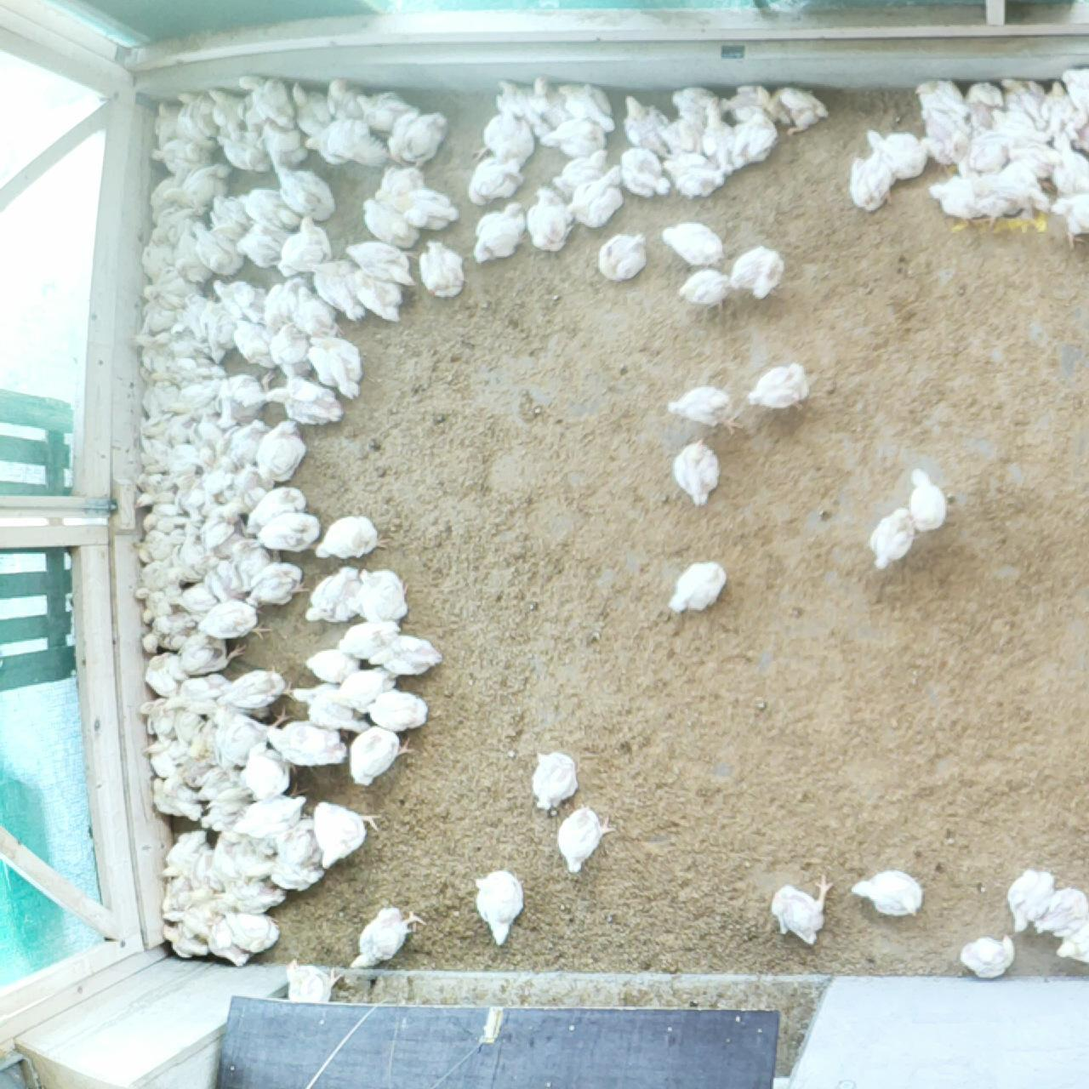chicken: (346, 901, 425, 975), (768, 868, 838, 951), (312, 798, 383, 874), (301, 114, 395, 171), (845, 861, 927, 925), (212, 704, 292, 768), (553, 799, 619, 876), (998, 861, 1063, 939), (470, 864, 529, 948), (261, 716, 349, 772), (665, 379, 747, 439), (347, 722, 418, 791), (284, 678, 371, 734), (231, 780, 309, 841), (301, 117, 389, 170), (270, 158, 339, 225), (309, 510, 395, 563), (666, 553, 733, 621), (272, 212, 336, 281), (863, 124, 936, 184), (302, 334, 365, 402), (261, 377, 344, 428), (900, 463, 956, 538), (763, 81, 834, 140), (657, 215, 730, 272), (215, 661, 295, 713), (564, 164, 631, 226), (865, 504, 923, 575), (980, 159, 1051, 217), (387, 105, 450, 170), (345, 564, 411, 626), (469, 107, 537, 167), (269, 822, 328, 891), (670, 434, 724, 509), (237, 739, 298, 805), (161, 159, 230, 217), (300, 565, 364, 627), (193, 596, 275, 644), (618, 90, 675, 159), (173, 627, 249, 678), (344, 238, 419, 289), (470, 197, 527, 264), (308, 255, 365, 322), (256, 417, 310, 487), (343, 265, 406, 325), (242, 483, 308, 539), (388, 186, 461, 236), (284, 950, 348, 1007), (727, 241, 787, 301), (528, 745, 580, 814), (358, 196, 423, 251), (236, 70, 296, 129), (366, 634, 446, 678), (352, 88, 419, 140), (1028, 885, 1089, 942), (920, 103, 973, 168), (212, 368, 272, 425), (956, 929, 1018, 984), (189, 218, 245, 278), (246, 559, 313, 609), (416, 237, 468, 301), (848, 145, 896, 214), (539, 112, 608, 160), (465, 153, 525, 208), (749, 360, 811, 413), (927, 171, 989, 224), (559, 81, 618, 136), (287, 78, 339, 140), (528, 184, 574, 254), (215, 415, 268, 475), (663, 147, 724, 199), (237, 184, 304, 231), (701, 100, 744, 173), (194, 300, 241, 366), (363, 687, 430, 733), (256, 118, 313, 172), (595, 228, 649, 285), (996, 74, 1049, 132), (618, 144, 671, 202), (216, 124, 275, 176), (676, 265, 735, 317), (173, 90, 220, 155), (209, 276, 269, 326), (731, 107, 778, 170), (160, 672, 232, 713), (234, 220, 293, 270), (552, 148, 611, 198), (222, 464, 272, 523), (268, 318, 315, 380), (489, 75, 544, 126), (371, 161, 427, 211), (228, 317, 278, 373), (1046, 187, 1089, 252), (147, 774, 205, 822), (228, 537, 280, 590), (299, 647, 366, 688), (293, 283, 342, 339), (201, 783, 255, 833), (913, 77, 968, 126), (141, 609, 202, 653), (225, 908, 282, 955), (203, 85, 248, 144), (222, 827, 274, 877), (967, 121, 1015, 175), (264, 276, 306, 337), (322, 74, 371, 126), (161, 827, 209, 880), (990, 104, 1047, 148), (201, 921, 251, 971), (137, 694, 177, 754), (143, 650, 190, 701), (1051, 129, 1089, 192), (147, 137, 211, 174), (225, 879, 287, 917), (1001, 138, 1061, 177), (171, 228, 212, 285), (161, 376, 219, 416), (164, 903, 222, 943), (162, 291, 210, 339), (519, 76, 565, 126), (198, 442, 235, 504), (175, 520, 214, 578), (1036, 79, 1076, 134), (140, 734, 187, 780), (200, 501, 240, 555), (141, 271, 201, 307), (670, 84, 728, 121), (207, 827, 239, 894), (205, 191, 250, 237), (962, 76, 1005, 124), (150, 206, 197, 249), (659, 114, 709, 154), (154, 438, 207, 475), (718, 80, 771, 116), (188, 413, 226, 463), (151, 98, 188, 149), (168, 580, 220, 616), (134, 557, 177, 600), (133, 328, 173, 374), (134, 366, 166, 422), (194, 764, 241, 802), (175, 473, 212, 520), (163, 923, 211, 959), (135, 434, 177, 475), (129, 469, 178, 504), (134, 583, 175, 623), (187, 717, 221, 764), (1059, 64, 1089, 117), (171, 706, 207, 750), (204, 553, 239, 598), (188, 879, 229, 917), (140, 236, 173, 283), (141, 502, 188, 533), (174, 754, 214, 789), (164, 358, 212, 387), (151, 174, 177, 227), (1057, 930, 1089, 973), (133, 527, 173, 561), (137, 297, 174, 333), (160, 875, 193, 915), (162, 412, 198, 446), (1063, 104, 1089, 149), (166, 329, 198, 365), (134, 411, 172, 440), (219, 529, 258, 553)
